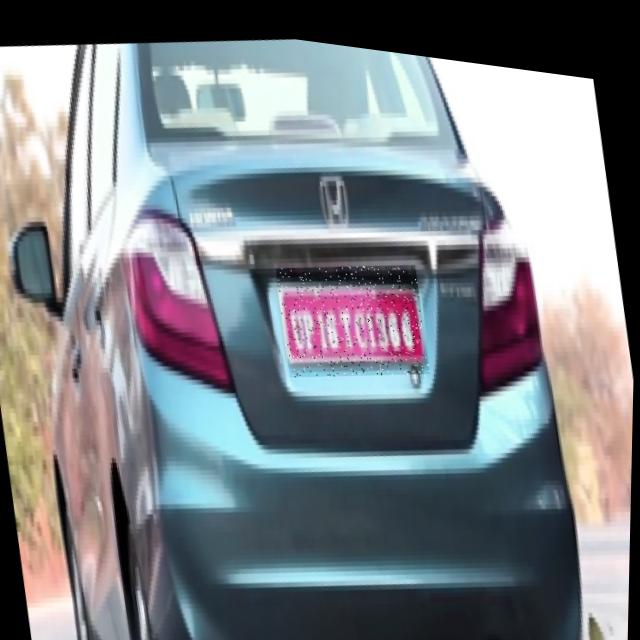license_plate: (275, 238, 433, 384)
